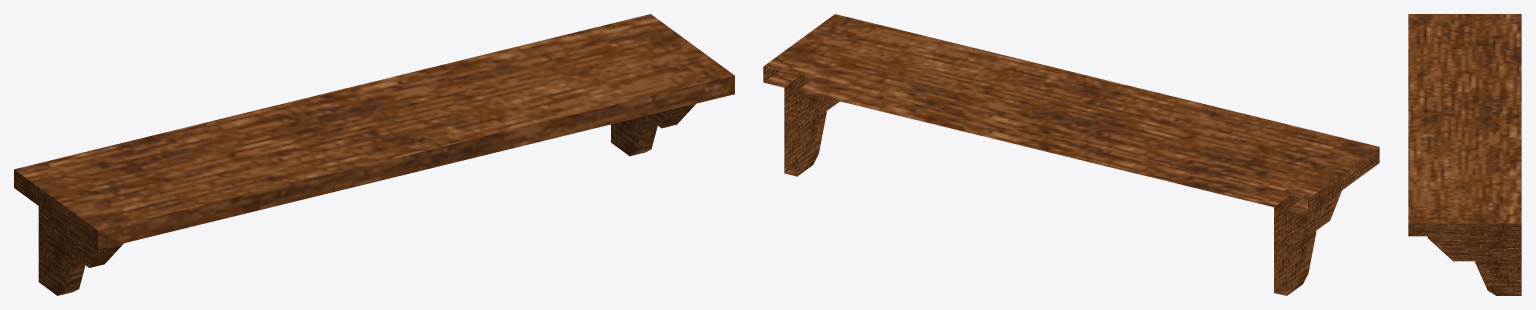
File: SM_Dungeon_Shelf_Wooden.fbx
3 views of the same model, side by side, from view 1: azimuth 30°, elevation 25°; view 2: azimuth 150°, elevation 25°; view 3: azimuth 270°, elevation 25° (orthographic). The views are drawn at different scales.
Parts seen in each view (by area): view 1: SM_Dungeon_Shelf_Wooden; view 2: SM_Dungeon_Shelf_Wooden; view 3: SM_Dungeon_Shelf_Wooden.
Part boxes in pixels (bbox=[...]): SM_Dungeon_Shelf_Wooden: bbox=[14, 14, 734, 295]; SM_Dungeon_Shelf_Wooden: bbox=[763, 14, 1379, 295]; SM_Dungeon_Shelf_Wooden: bbox=[1408, 14, 1521, 295].
Bounding box in the file's own units: 200 × 35.7 × 45.74.
